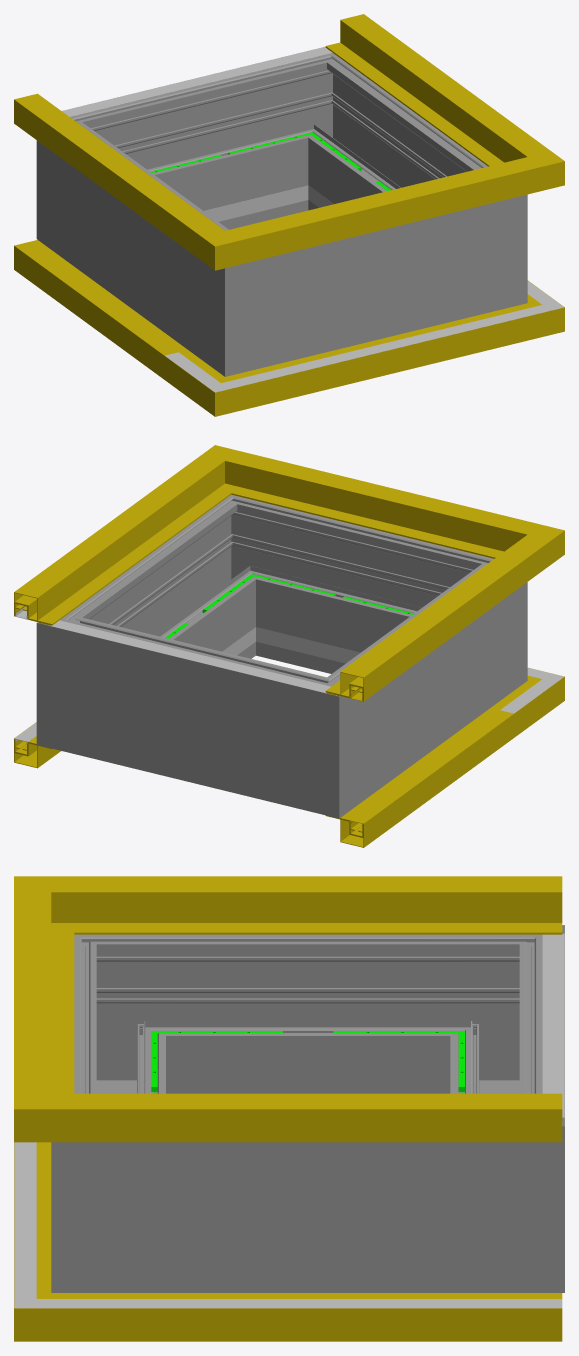
3 views of the same model, one above another, from view 1: azimuth 30°, elevation 25°; view 2: azimuth 150°, elevation 25°; view 3: azimuth 270°, elevation 25° (orthographic). The views are drawn at different scales.
Parts seen in each view (by area): view 1: 3DGeom-276, 3DGeom-270, 3DGeom-298, 3DGeom-284, 3DGeom-290, 3DGeom-128, 3DGeom-268, 3DGeom-297, 3DGeom-278, 3DGeom-118, 3DGeom-123, 3DGeom-120 (+11 smaller); view 2: 3DGeom-278, 3DGeom-276, 3DGeom-298, 3DGeom-284, 3DGeom-290, 3DGeom-128, 3DGeom-297, 3DGeom-268, 3DGeom-123, 3DGeom-118, 3DGeom-270, 3DGeom-6 (+8 smaller); view 3: 3DGeom-268, 3DGeom-297, 3DGeom-118, 3DGeom-284, 3DGeom-290, 3DGeom-128, 3DGeom-16, 3DGeom-278, 3DGeom-270, 3DGeom-120, 3DGeom-125, 3DGeom-123 (+9 smaller).
Boxes of the visible parts, box(x1,y1,x2,y2) form: 3DGeom-276: box(128, 64, 293, 229); 3DGeom-270: box(174, 211, 312, 376); 3DGeom-298: box(312, 216, 439, 355); 3DGeom-284: box(252, 47, 375, 213); 3DGeom-290: box(440, 147, 527, 324); 3DGeom-128: box(325, 14, 513, 157); 3DGeom-268: box(87, 147, 202, 339); 3DGeom-297: box(317, 84, 462, 208); 3DGeom-278: box(36, 97, 166, 275); 3DGeom-118: box(14, 93, 187, 233); 3DGeom-123: box(289, 172, 477, 249); 3DGeom-120: box(164, 204, 302, 270); 3DGeom-278: box(251, 652, 389, 818); 3DGeom-276: box(124, 632, 267, 797); 3DGeom-298: box(270, 512, 431, 673); 3DGeom-284: box(36, 589, 140, 765); 3DGeom-290: box(189, 494, 303, 658); 3DGeom-128: box(14, 482, 202, 625); 3DGeom-297: box(102, 525, 247, 657); 3DGeom-268: box(361, 588, 476, 781); 3DGeom-123: box(280, 466, 476, 548); 3DGeom-118: box(325, 561, 514, 701); 3DGeom-270: box(398, 543, 527, 717); 3DGeom-6: box(325, 708, 514, 847); 3DGeom-268: box(189, 934, 427, 1093); 3DGeom-297: box(189, 1142, 427, 1292); 3DGeom-118: box(151, 876, 562, 934); 3DGeom-284: box(427, 1068, 564, 1292); 3DGeom-290: box(51, 1068, 188, 1292); 3DGeom-128: box(151, 1093, 562, 1142); 3DGeom-16: box(151, 1293, 562, 1341); 3DGeom-278: box(427, 925, 564, 1093); 3DGeom-270: box(74, 934, 188, 1093); 3DGeom-120: box(14, 876, 151, 965); 3DGeom-125: box(14, 1051, 151, 1142); 3DGeom-123: box(14, 934, 74, 1081).
Bounding box in the file's own units: 0.6096 × 0.2836 × 0.6096.
